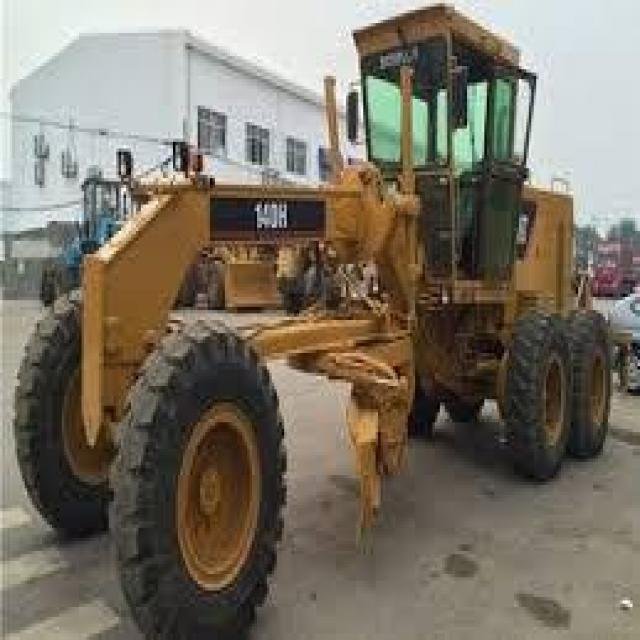Grader: (17, 0, 620, 633)
